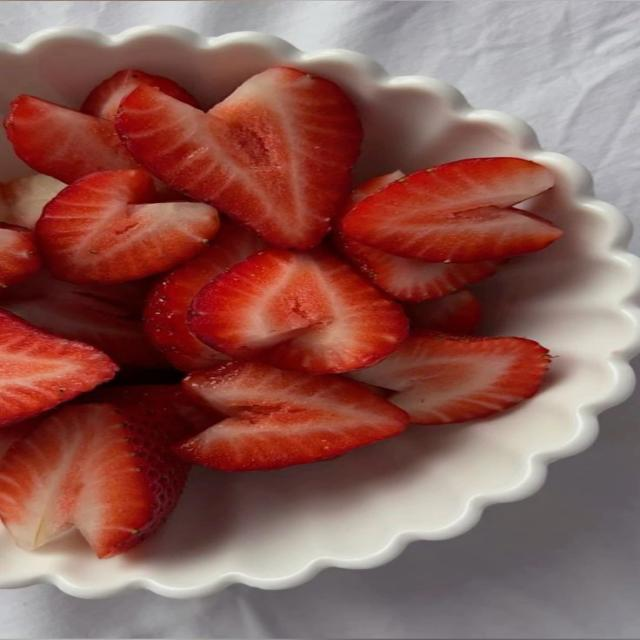strawberry sliced: (117, 68, 361, 249), (0, 404, 187, 557), (189, 249, 407, 373), (174, 363, 406, 471), (341, 158, 561, 262), (36, 170, 219, 282), (350, 331, 549, 424), (145, 222, 264, 371), (0, 270, 166, 367), (0, 311, 117, 425), (334, 231, 499, 301), (5, 95, 136, 183), (334, 233, 501, 301), (79, 384, 224, 441), (81, 70, 198, 120), (0, 175, 66, 228), (406, 290, 481, 334), (0, 223, 39, 288), (348, 171, 405, 207), (0, 417, 40, 459)
